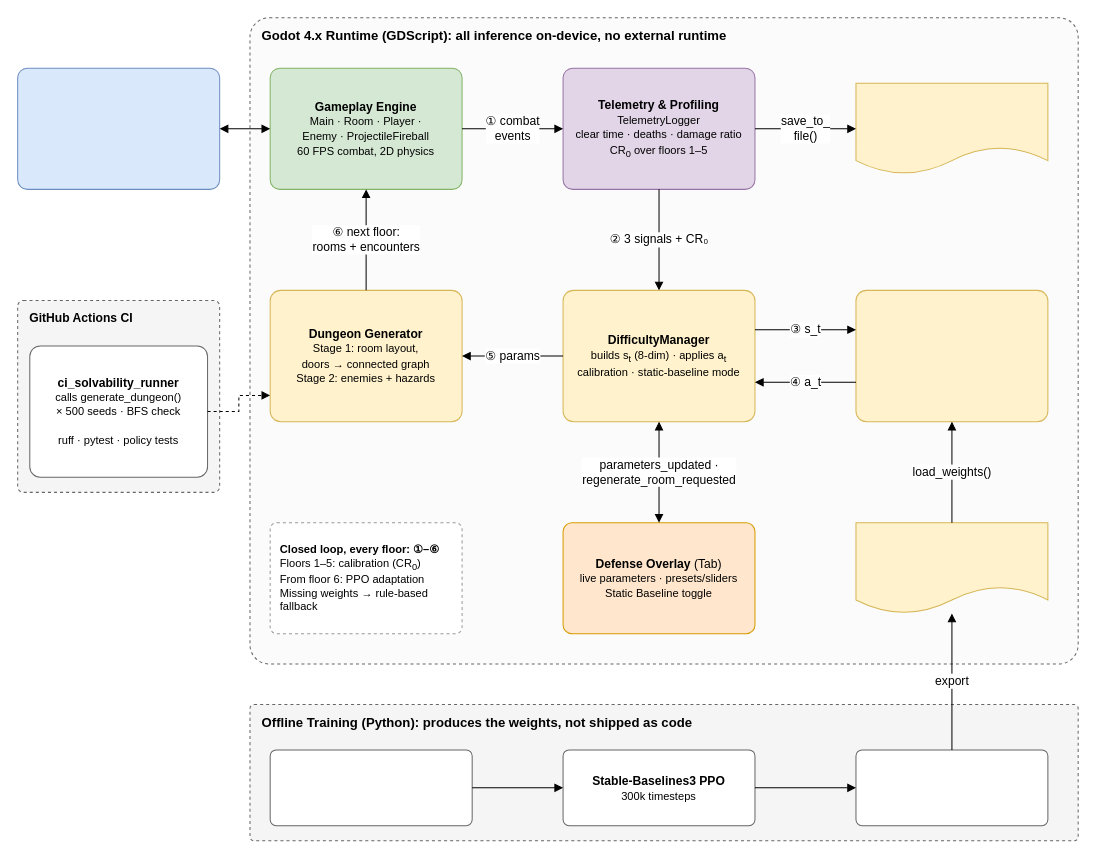
The diagram is 1096 pixels wide and 859 high, and some of its shapes have lost their labels. The shapes that lost their labels are listed below. From the top down, each one's centre as x and y in pixels, then its label:
At (118,128): "Player (human) WASD · attack · dash ⇄ rendered game + HUD".
At (951,128): "session_telemetry.json last 50 records".
At (951,355): "PPOPolicy MLP 8→64→64→7 (tanh) ≈0.2 ms · heuristic fallback".
At (951,568): "policy_weights.json ≈111 KB, read-only".
At (370,787): "DungeonDifficultyEnv Gymnasium · simulated player 8-dim obs · 7-dim action".
At (951,787): "export PyTorch → JSON weights".
